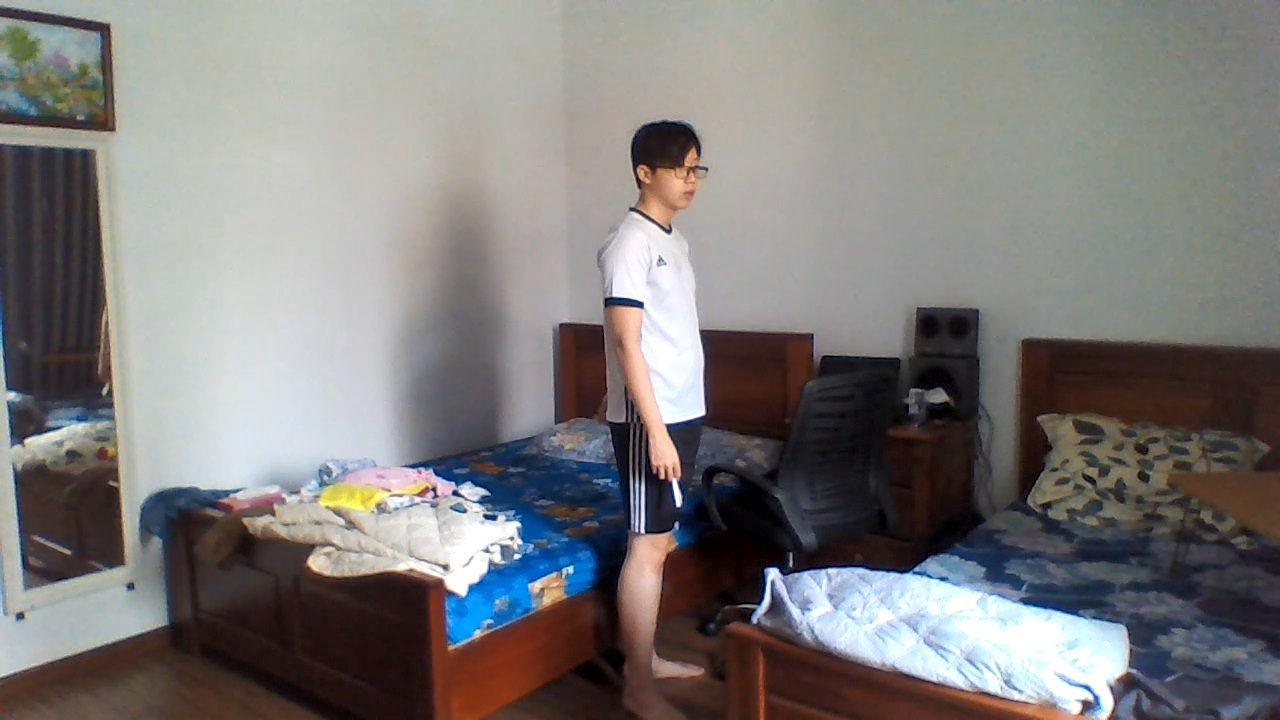cigarette: (667, 476, 687, 510)
person: (569, 110, 733, 720)
